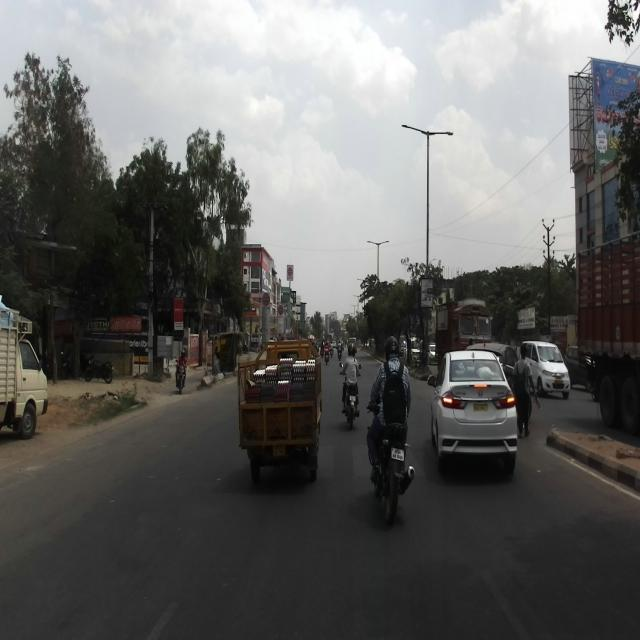car: (427, 348, 517, 474)
motorcycle: (366, 388, 414, 526)
